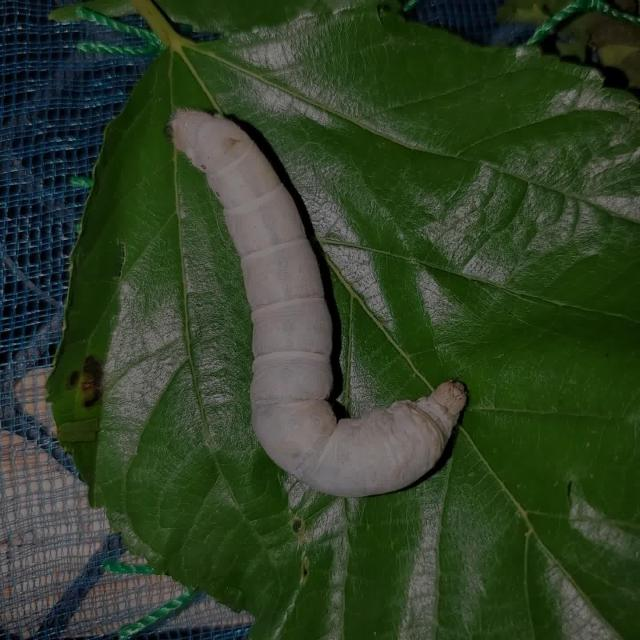Healthy: (148, 66, 501, 521)
